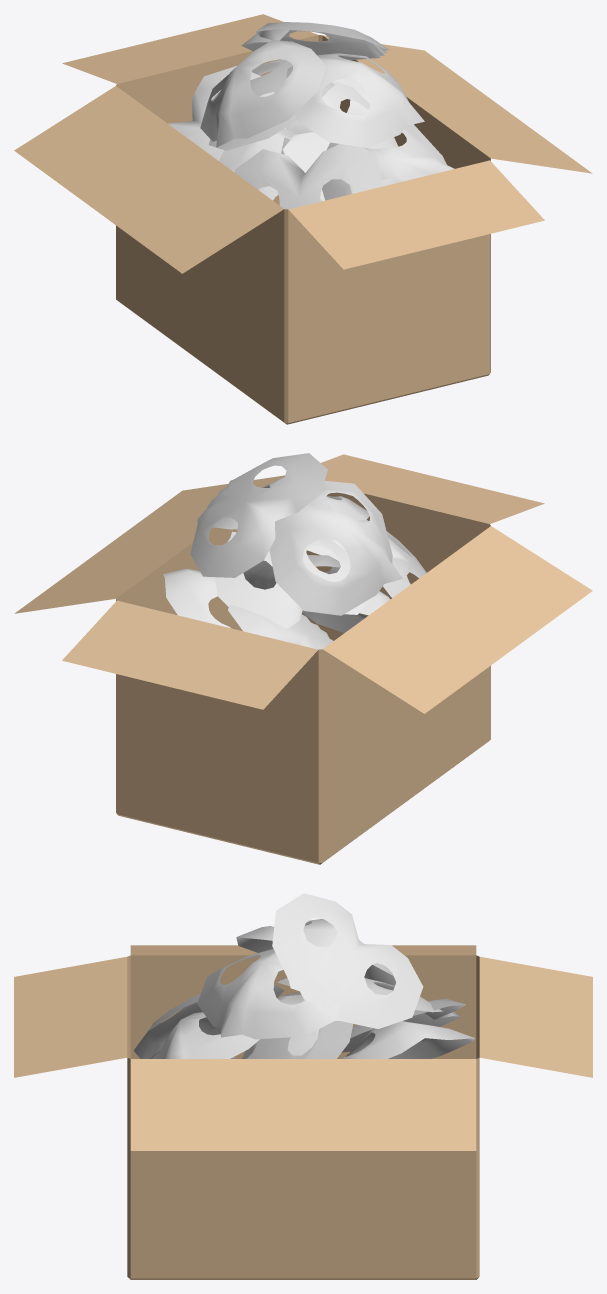
File: dando-ru_kamen.fbx
3 views of the same model, one above another, from view 1: azimuth 30°, elevation 25°; view 2: azimuth 150°, elevation 25°; view 3: azimuth 270°, elevation 25° (orthographic). The views are drawn at different scales.
Parts seen in each view (by area): view 1: pCube2, face9, face8, polySurface6, face7, polySurface8, polySurface5, polySurface4, polySurface7, face5, face6; view 2: pCube2, face9, polySurface8, polySurface7, face5, polySurface4, polySurface6, face6, polySurface5, face8; view 3: pCube2, polySurface8, face8, face5, face7, polySurface5, face9, polySurface6, polySurface4, face6, polySurface7.
Boxes of the visible parts, x1,y1,x2,y2 form: pCube2: [14, 14, 592, 424]; face9: [200, 40, 326, 147]; face8: [286, 53, 424, 147]; polySurface6: [234, 144, 383, 209]; face7: [322, 113, 454, 200]; polySurface8: [241, 22, 388, 60]; polySurface5: [283, 81, 402, 200]; polySurface4: [168, 66, 286, 160]; polySurface7: [208, 59, 335, 150]; face5: [252, 59, 370, 154]; face6: [219, 128, 322, 201]; pCube2: [14, 454, 592, 864]; face9: [269, 481, 402, 615]; polySurface8: [190, 453, 327, 577]; polySurface7: [215, 531, 371, 628]; face5: [163, 568, 230, 628]; polySurface4: [228, 604, 333, 649]; polySurface6: [358, 520, 426, 597]; face6: [302, 591, 390, 632]; polySurface5: [243, 555, 340, 589]; face8: [213, 477, 369, 529]; pCube2: [14, 945, 592, 1279]; polySurface8: [272, 893, 423, 1028]; face8: [197, 948, 334, 1039]; face5: [340, 1021, 474, 1058]; face7: [149, 1012, 259, 1058]; polySurface5: [230, 1000, 353, 1058]; face9: [236, 919, 396, 984]; polySurface6: [133, 984, 284, 1058]; polySurface4: [342, 998, 465, 1052]; face6: [242, 992, 319, 1058]; polySurface7: [277, 978, 442, 1012].
Bounding box in the file's own units: 99.31 × 72.87 × 118.
